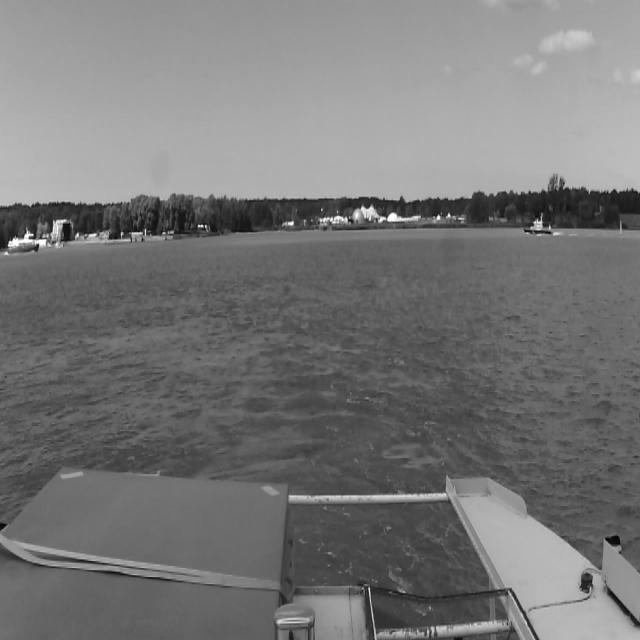buoy: (618, 220, 623, 236)
ship: (6, 230, 38, 253), (525, 217, 553, 234)
